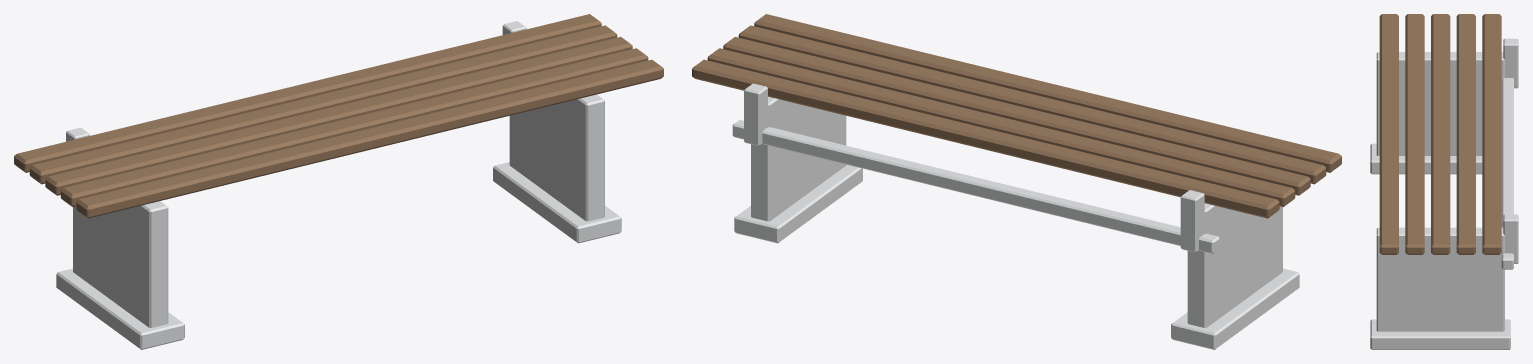
The model's file is police-station-and-detective-office-holding-bench-5ef7cfe9__29981.glb.
The picture shows the model from 3 angles, left to right: view 1: azimuth 30°, elevation 25°; view 2: azimuth 150°, elevation 25°; view 3: azimuth 270°, elevation 25°; orthographic projection. The views are drawn at different scales.
Visible parts, largest first — view 1: holding-bench; view 2: holding-bench; view 3: holding-bench.
Boxes of the visible parts, x1,y1,x2,y2 form: holding-bench: [14, 14, 663, 349]; holding-bench: [692, 14, 1341, 349]; holding-bench: [1370, 14, 1518, 349].
Size of the model in its own units: 1.8 by 0.45 by 0.4849.
